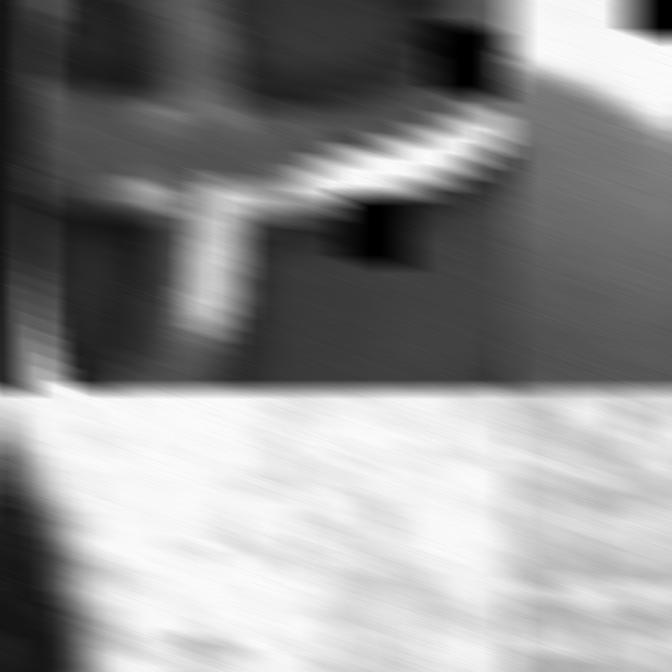AirbagV2: (0, 0, 516, 391), (0, 387, 516, 672), (503, 0, 672, 391), (503, 387, 672, 672)
